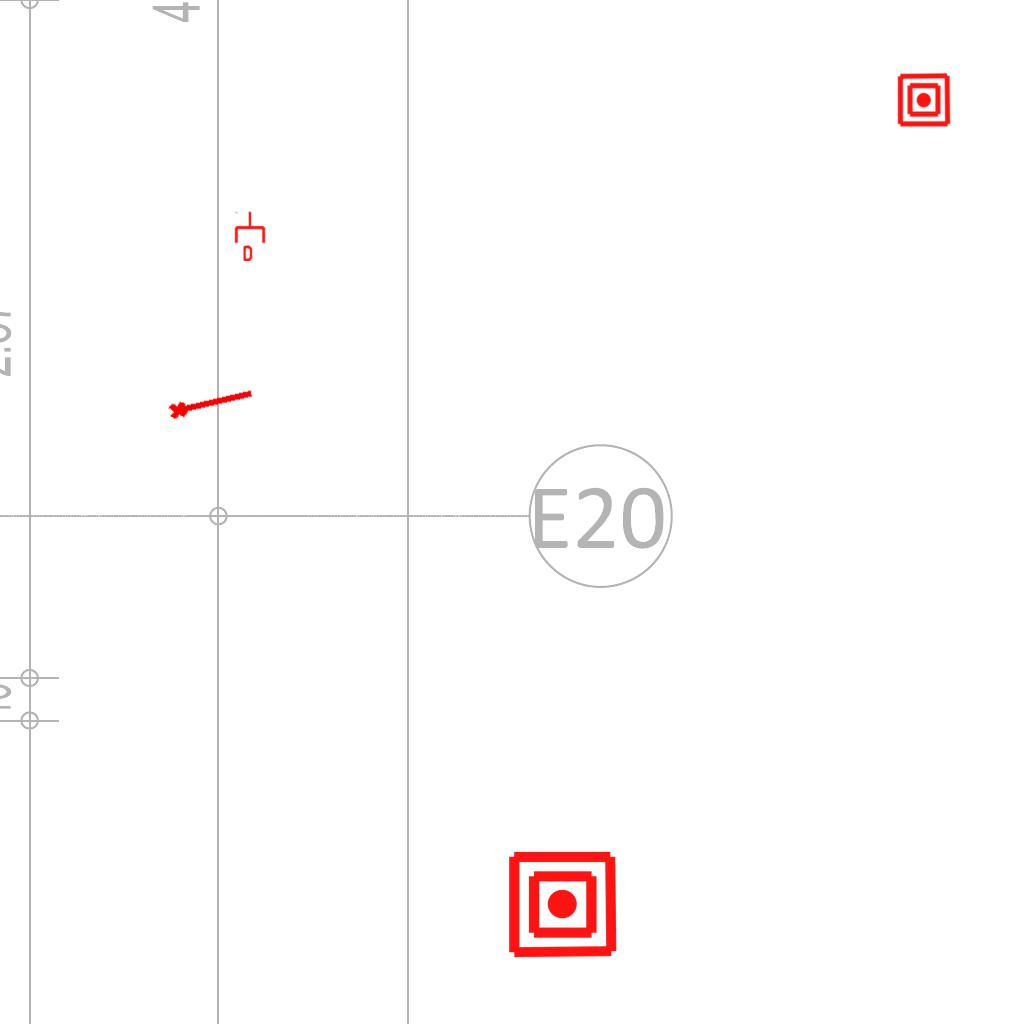ASR_Ansaugoeffnung: (165, 380, 257, 423)
Datenanschluss_einfach: (233, 211, 267, 261)
NAM-Nichtautomatischer_Melder: (506, 848, 619, 961), (896, 72, 952, 128)
